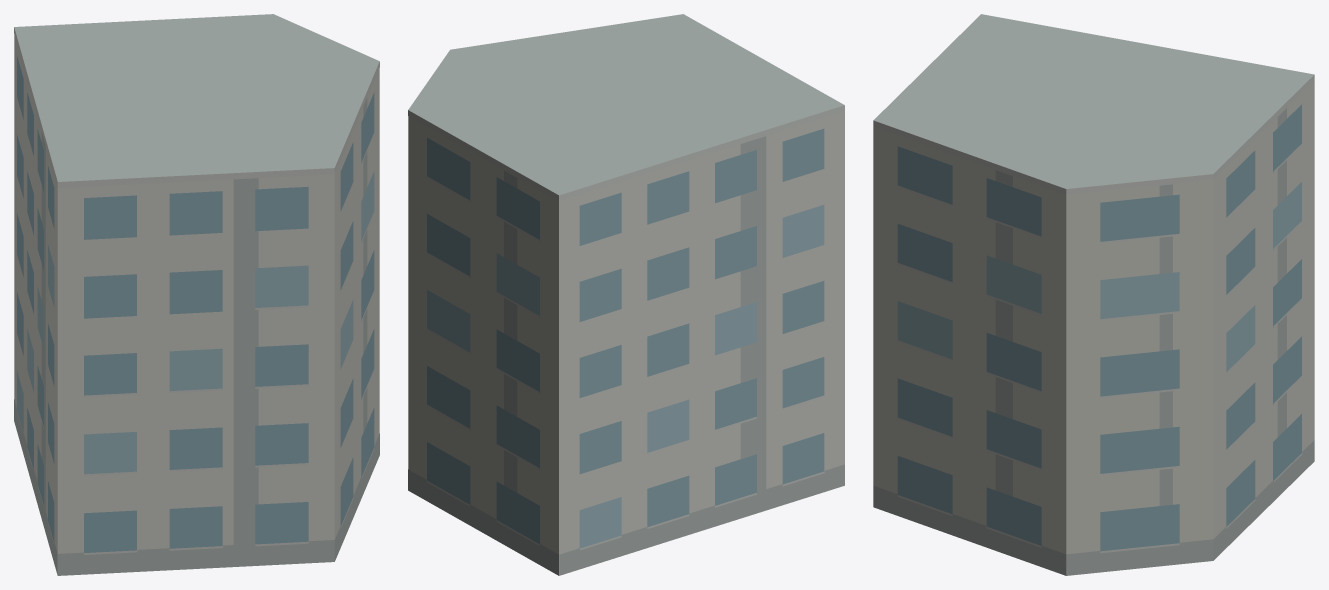
File: residential-84e7395c-188d-4631-aa53-dc1e418f4504.glb
The picture shows the model from 3 angles, left to right: view 1: azimuth 30°, elevation 25°; view 2: azimuth 150°, elevation 25°; view 3: azimuth 270°, elevation 25°; orthographic projection. The views are drawn at different scales.
Visible parts, largest first — view 1: residential-84e7395c-188d-4631-aa53-dc1e418f4504.tmp; view 2: residential-84e7395c-188d-4631-aa53-dc1e418f4504.tmp; view 3: residential-84e7395c-188d-4631-aa53-dc1e418f4504.tmp.
Boxes of the visible parts, <box> form: residential-84e7395c-188d-4631-aa53-dc1e418f4504.tmp: <box>14,14,379,575</box>; residential-84e7395c-188d-4631-aa53-dc1e418f4504.tmp: <box>408,14,844,575</box>; residential-84e7395c-188d-4631-aa53-dc1e418f4504.tmp: <box>873,14,1314,575</box>.
Size of the model in its own units: 14.81 by 15.25 by 15.77.
